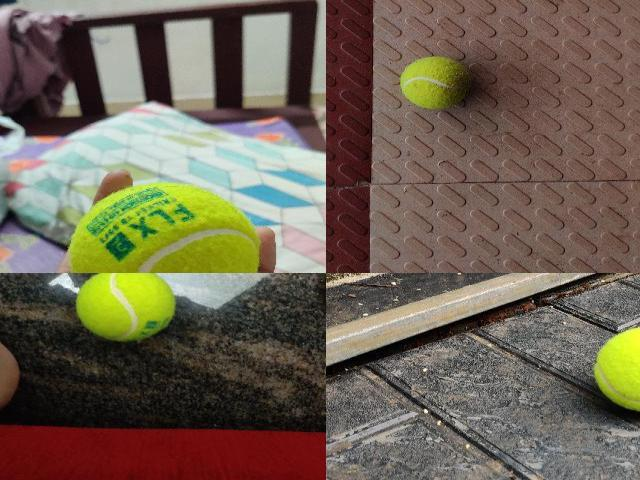tennis-ball: (67, 182, 261, 272), (75, 273, 177, 341), (592, 326, 639, 414), (400, 56, 470, 109)
